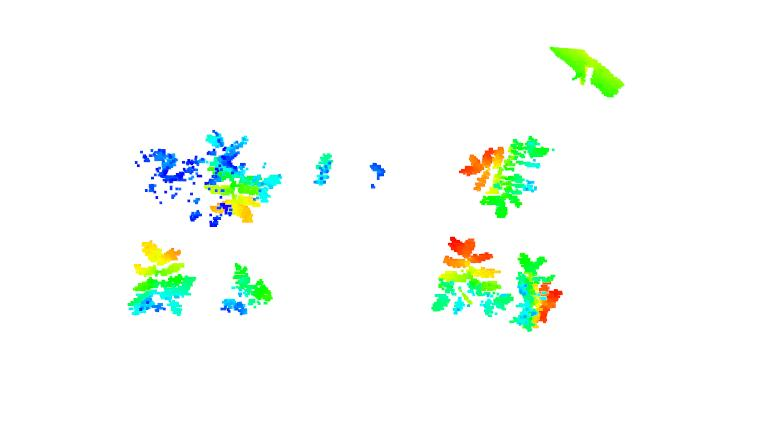chickpea: (459, 136, 549, 220), (426, 236, 514, 319), (204, 133, 282, 223), (125, 239, 198, 320), (512, 251, 562, 333), (219, 262, 276, 320), (311, 151, 336, 188)
